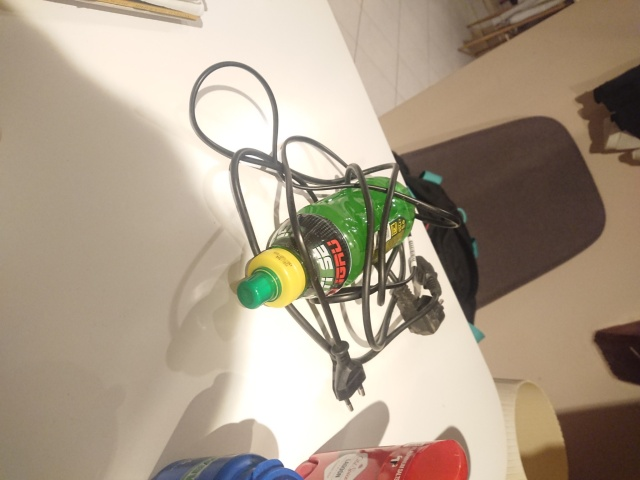Vindi Iso Sport Lemon-Grapefruit 500mL: (234, 174, 419, 312)
